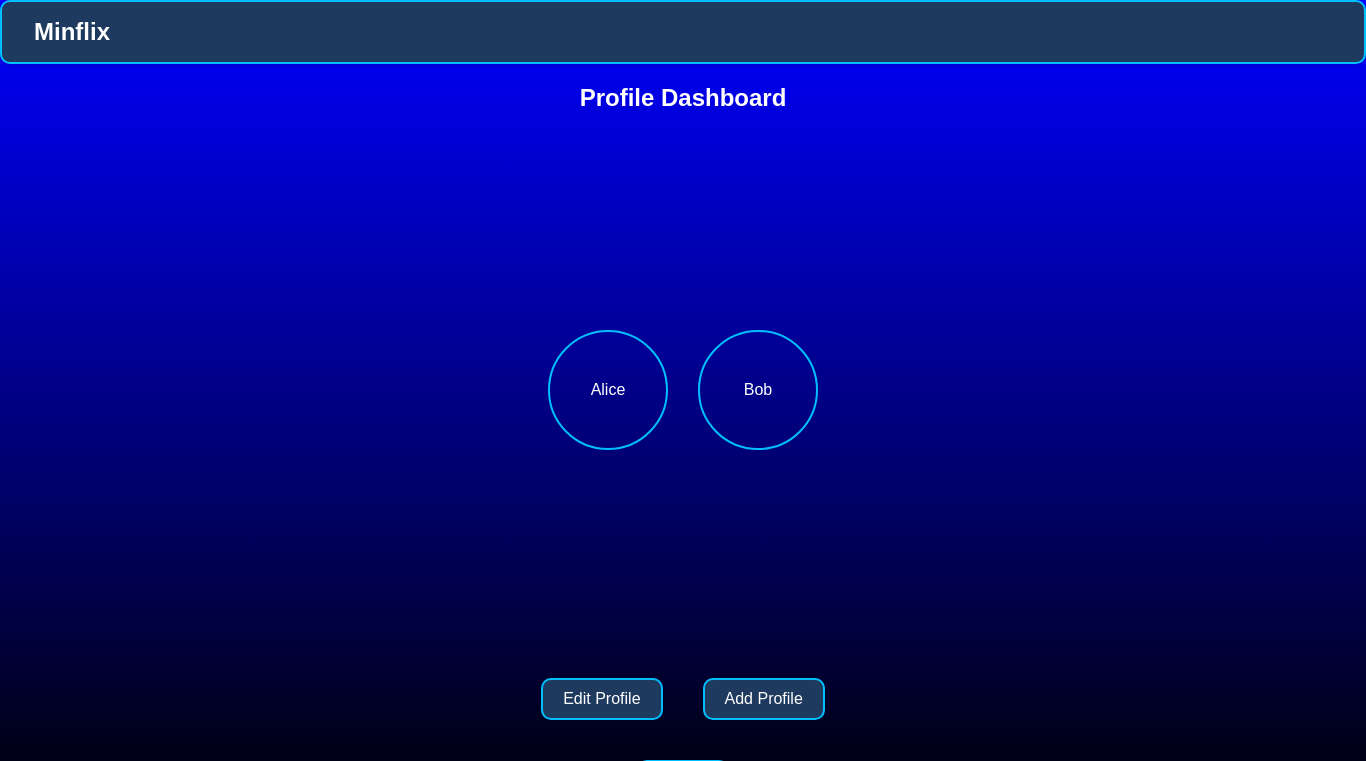
Test: ProfilePickerPage › shows Add Profile form when button clicked
Step 1. Click the button "Add Profile" → (764, 699), box [702, 678, 825, 720]
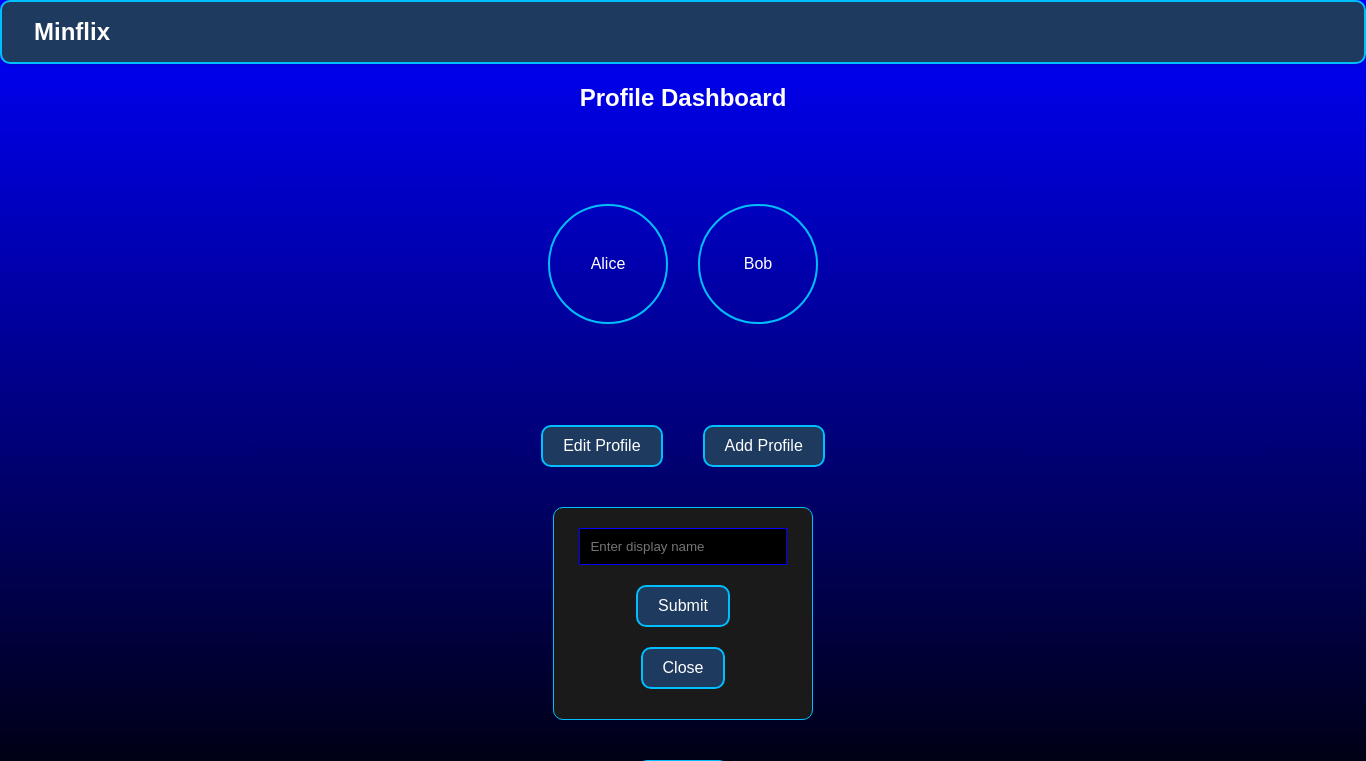
Result: the field with placeholder "Enter display name" is shown at [579, 528, 786, 565]
